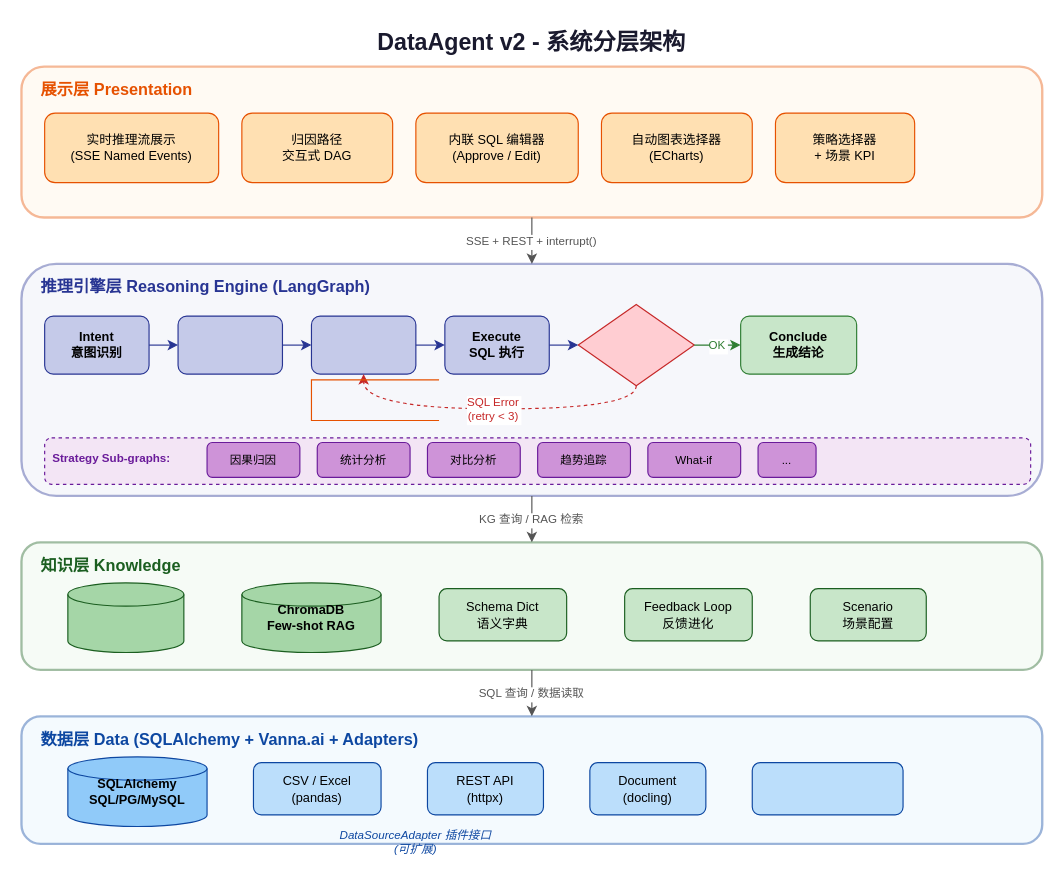
Some shapes in this 1063 by 875 pixel diagram are drawn without their labels. The centre of each missing label's shape, as x and y in pixels:
"interrupt() Human-in-the-Loop" goes at [374,399].
"Neo4j 因果 KG" goes at [125,617].
"Plan 任务分解" goes at [229,344].
"Reflect 结果评估" goes at [635,344].
"SQL Gen SQL 生成" goes at [363,344].
"Vanna.ai Text-to-SQL RAG" goes at [827,788].
